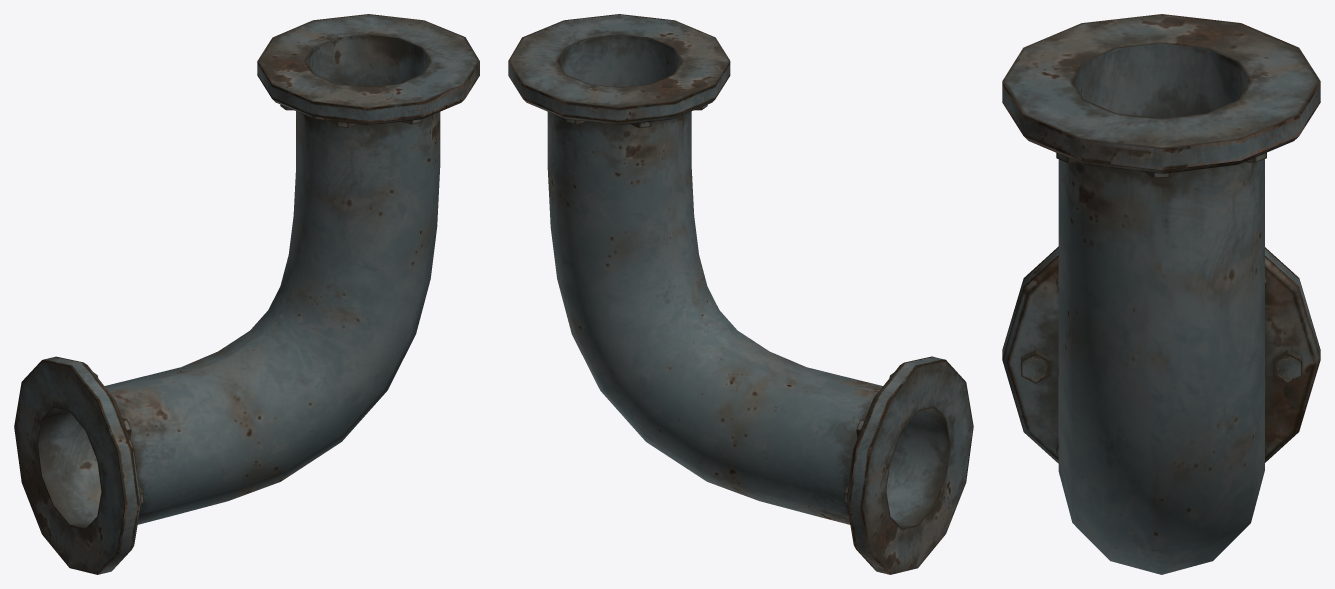
Rendered from modular_industrial_pipes_01_pipe04_Game.fbx.
3 views of the same model, side by side, from view 1: azimuth 30°, elevation 25°; view 2: azimuth 150°, elevation 25°; view 3: azimuth 270°, elevation 25° (orthographic). The views are drawn at different scales.
Parts seen in each view (by area): view 1: modular_industrial_pipes_01_pipe04_Game; view 2: modular_industrial_pipes_01_pipe04_Game; view 3: modular_industrial_pipes_01_pipe04_Game.
Part boxes in pixels (x1,y1,x2,y2): modular_industrial_pipes_01_pipe04_Game: (14,14,479,574); modular_industrial_pipes_01_pipe04_Game: (508,14,973,574); modular_industrial_pipes_01_pipe04_Game: (1002,14,1320,574).
Bounding box in the file's own units: 0.4241 × 0.4446 × 0.2063.
